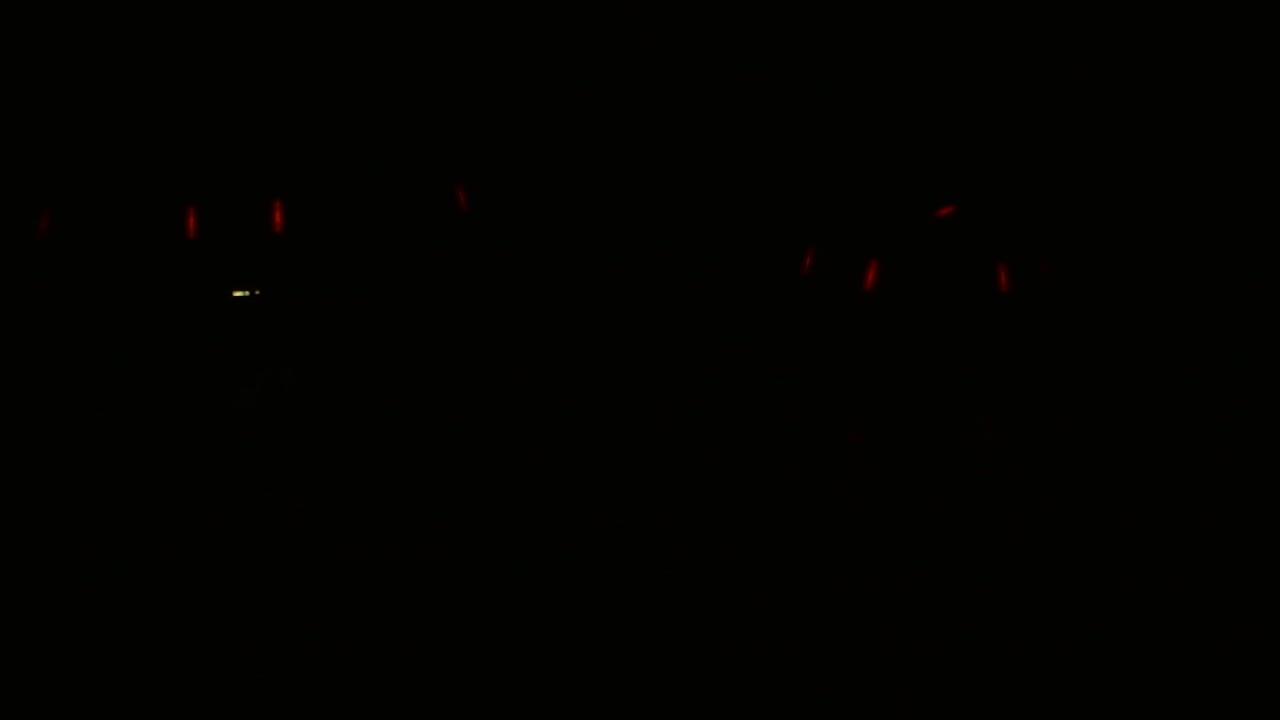pair1: (186, 197, 285, 239), (798, 246, 881, 292)
